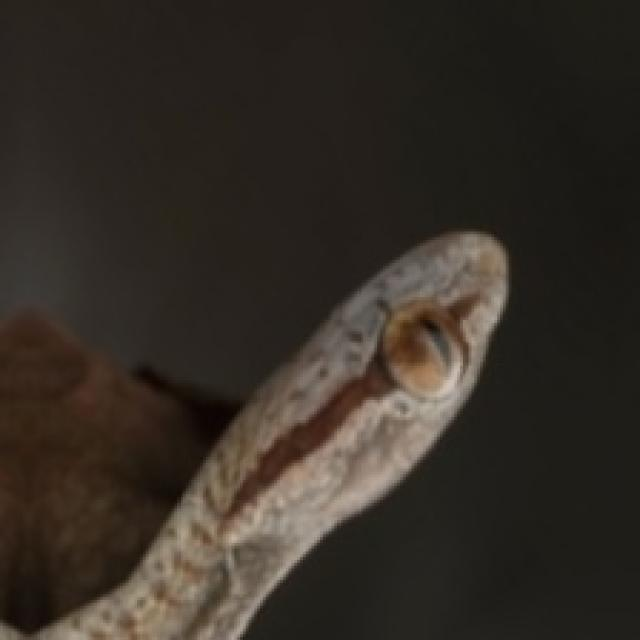dog-toothed cat snake: (0, 231, 506, 637)
